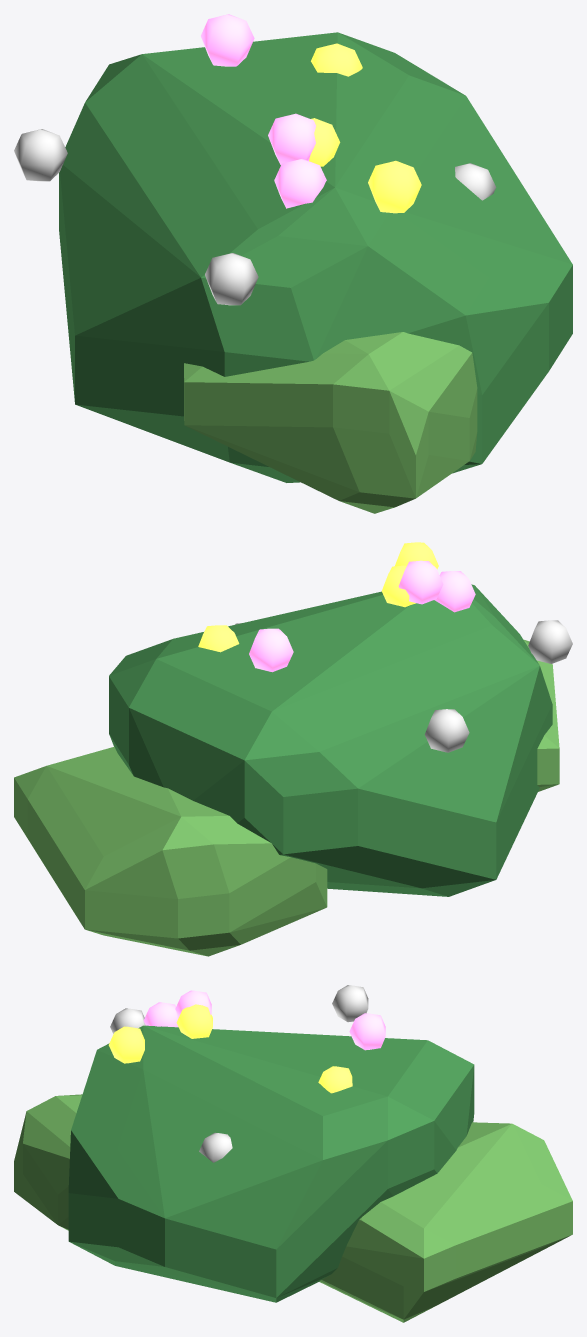
File: bush.glb
The picture shows the model from 3 angles, top to bottom: view 1: azimuth 30°, elevation 25°; view 2: azimuth 150°, elevation 25°; view 3: azimuth 270°, elevation 25°; orthographic projection. The views are drawn at different scales.
Parts seen in each view (by area): view 1: Bush_4FA35A, BushLight_7CC66A, FlowerPink_FF7AB8, FlowerWhite_FFFFFF, FlowerYellow_FFD447; view 2: Bush_4FA35A, BushLight_7CC66A, FlowerPink_FF7AB8, FlowerWhite_FFFFFF, FlowerYellow_FFD447; view 3: Bush_4FA35A, BushLight_7CC66A, FlowerYellow_FFD447, FlowerPink_FF7AB8, FlowerWhite_FFFFFF.
Boxes of the visible parts, left/top/right/bottom form: Bush_4FA35A: left=59, top=32, right=572, bottom=482; BushLight_7CC66A: left=184, top=332, right=477, bottom=513; FlowerPink_FF7AB8: left=201, top=14, right=326, bottom=208; FlowerWhite_FFFFFF: left=14, top=129, right=496, bottom=305; FlowerYellow_FFD447: left=309, top=43, right=421, bottom=213; Bush_4FA35A: left=109, top=584, right=552, bottom=896; BushLight_7CC66A: left=14, top=640, right=559, bottom=956; FlowerPink_FF7AB8: left=249, top=560, right=475, bottom=672; FlowerWhite_FFFFFF: left=235, top=620, right=572, bottom=752; FlowerYellow_FFD447: left=198, top=542, right=438, bottom=652; Bush_4FA35A: left=68, top=1025, right=474, bottom=1302; BushLight_7CC66A: left=14, top=1094, right=572, bottom=1322; FlowerYellow_FFD447: left=108, top=1004, right=352, bottom=1093; FlowerPink_FF7AB8: left=143, top=990, right=385, bottom=1050; FlowerWhite_FFFFFF: left=110, top=985, right=368, bottom=1162.
Bounding box in the file's own units: 6.41 × 4.26 × 8.95.
